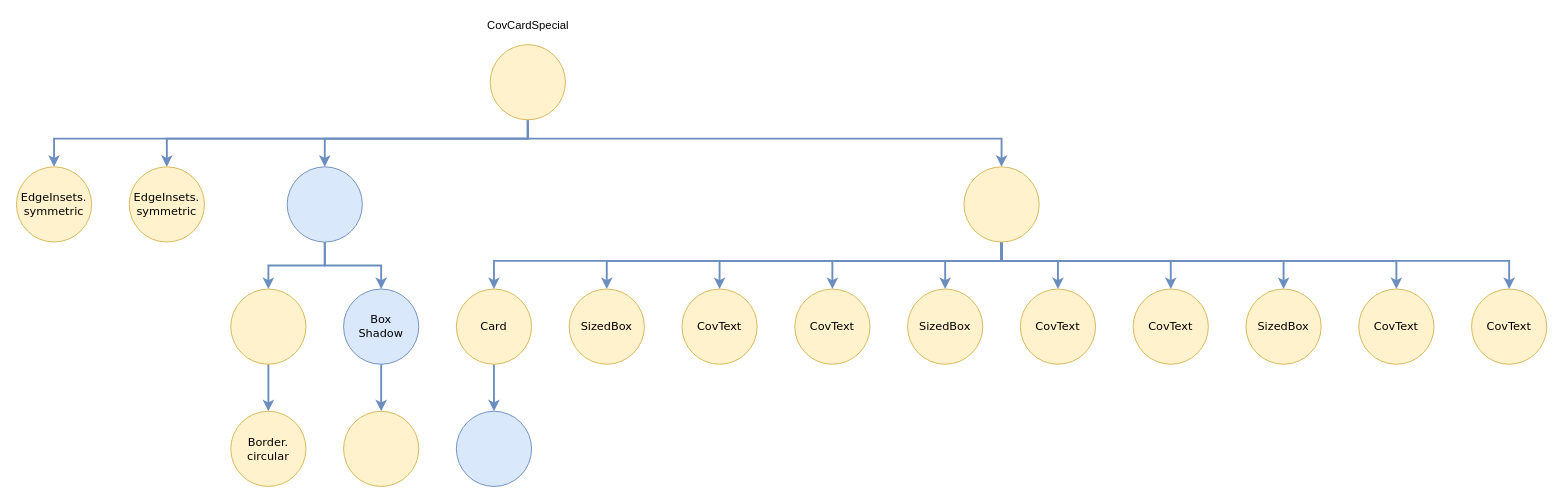
Some shapes in this 1563 by 503 pixel diagram are drawn without their labels. The shapes that lost their labels are listed below. From the top down, each one's centre as x and y in pixels, then its label:
[527,82]: Container
[324,204]: Box Decoration
[1001,204]: Column
[268,326]: Border Radius.all
[381,448]: Offset
[493,448]: Image. network
